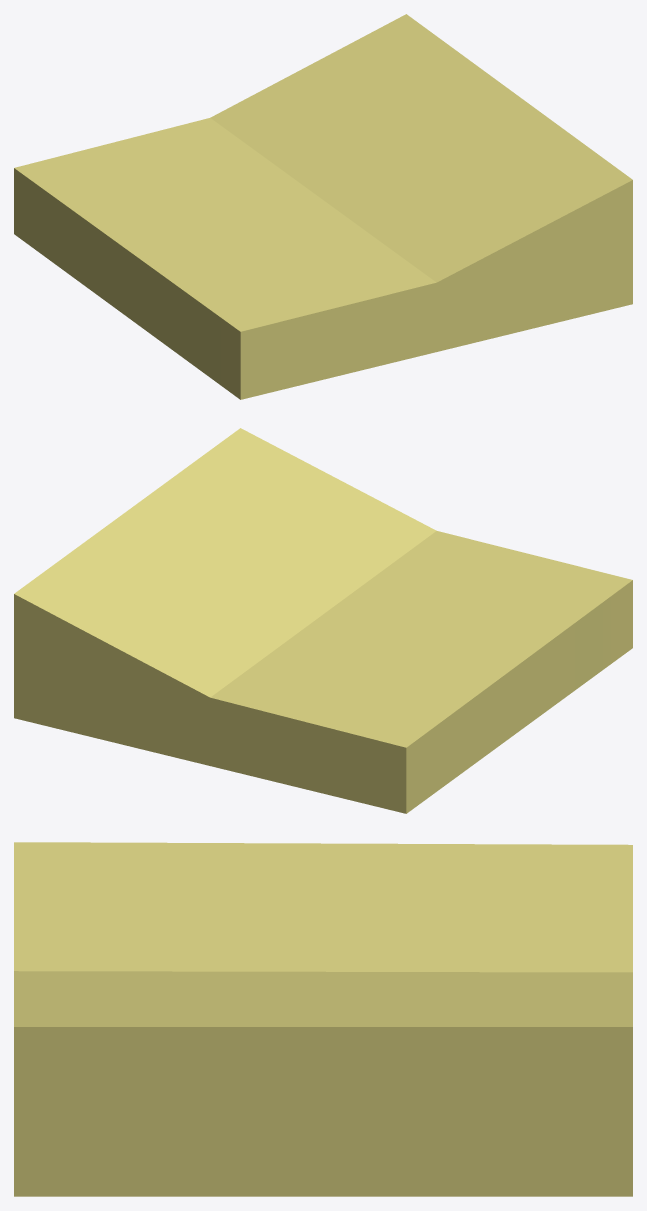
The model's file is Field_2.fbx.
3 views of the same model, one above another, from view 1: azimuth 30°, elevation 25°; view 2: azimuth 150°, elevation 25°; view 3: azimuth 270°, elevation 25° (orthographic). The views are drawn at different scales.
Visible parts, largest first — view 1: Field_2; view 2: Field_2; view 3: Field_2.
Part boxes in pixels (left/top/right/bottom): Field_2: left=14, top=14, right=632, bottom=399; Field_2: left=14, top=428, right=632, bottom=813; Field_2: left=14, top=842, right=632, bottom=1196.
Bounding box in the file's own units: 140 × 42.39 × 140.
1 material, 1 textured.
